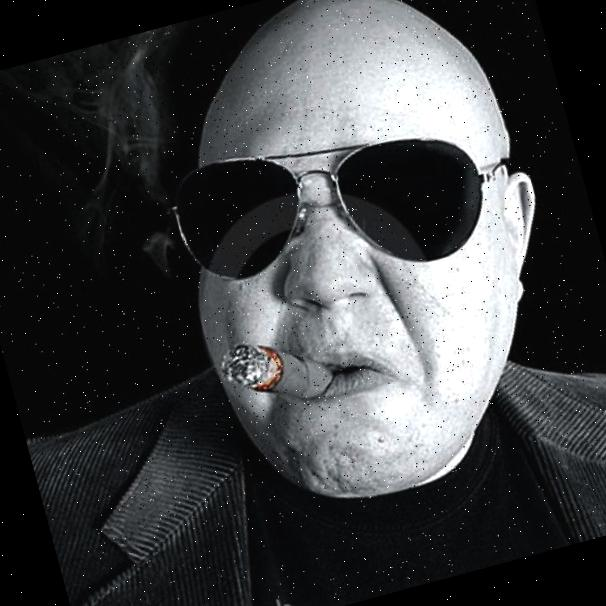smoke: (45, 31, 182, 191)
